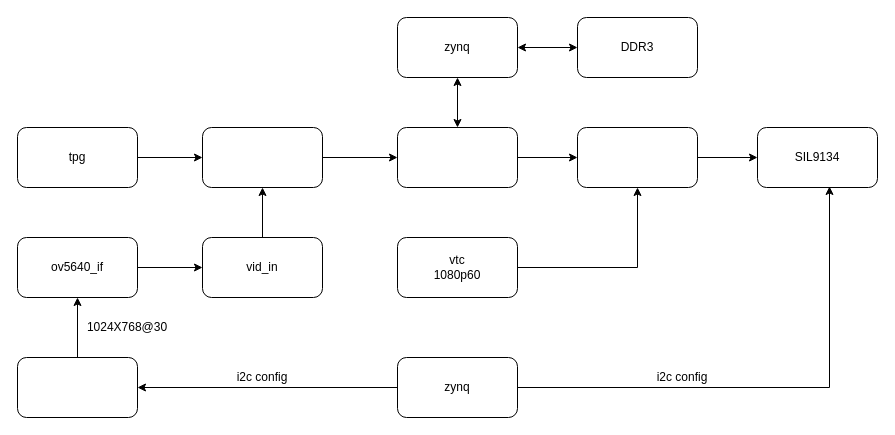
Some shapes in this 895 by 435 pixel diagram are drawn without their labels. Each missing label, with the centre of its shape:
axis_switch: the point at 262,157
ov5640: the point at 77,387
vdma: the point at 457,157
vid_out: the point at 637,157
